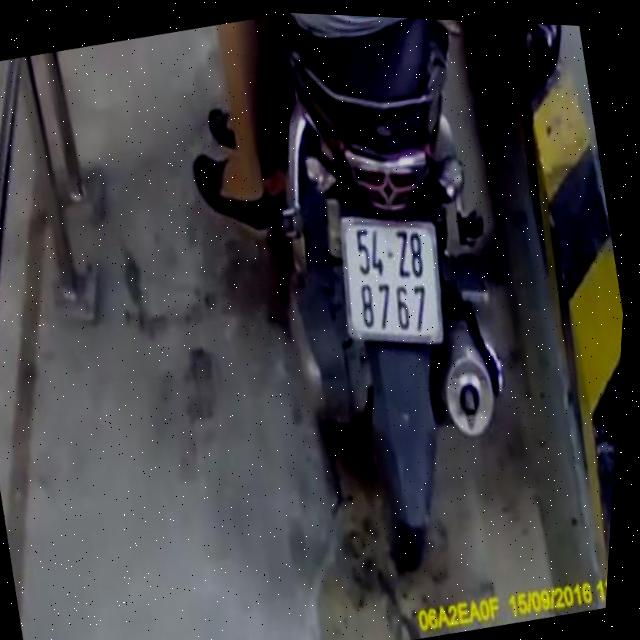motorcycle: (215, 11, 577, 608)
plate: (319, 195, 457, 360)
